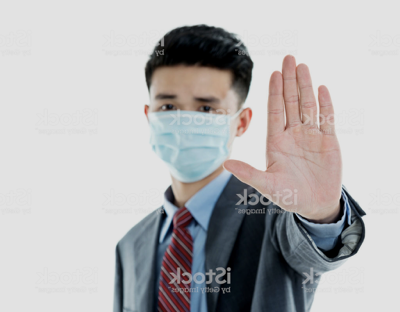with_mask: (149, 88, 237, 185)
